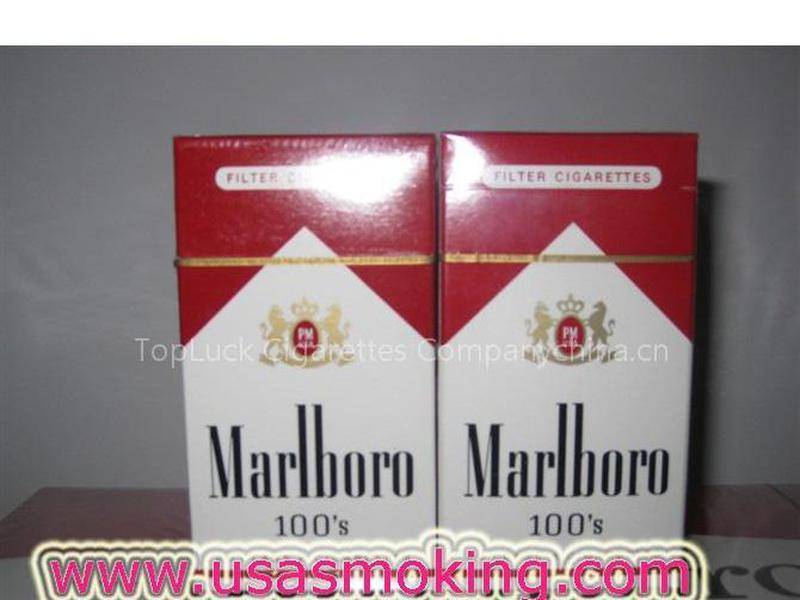marlboro_red: (186, 140, 433, 547), (442, 137, 686, 541)
